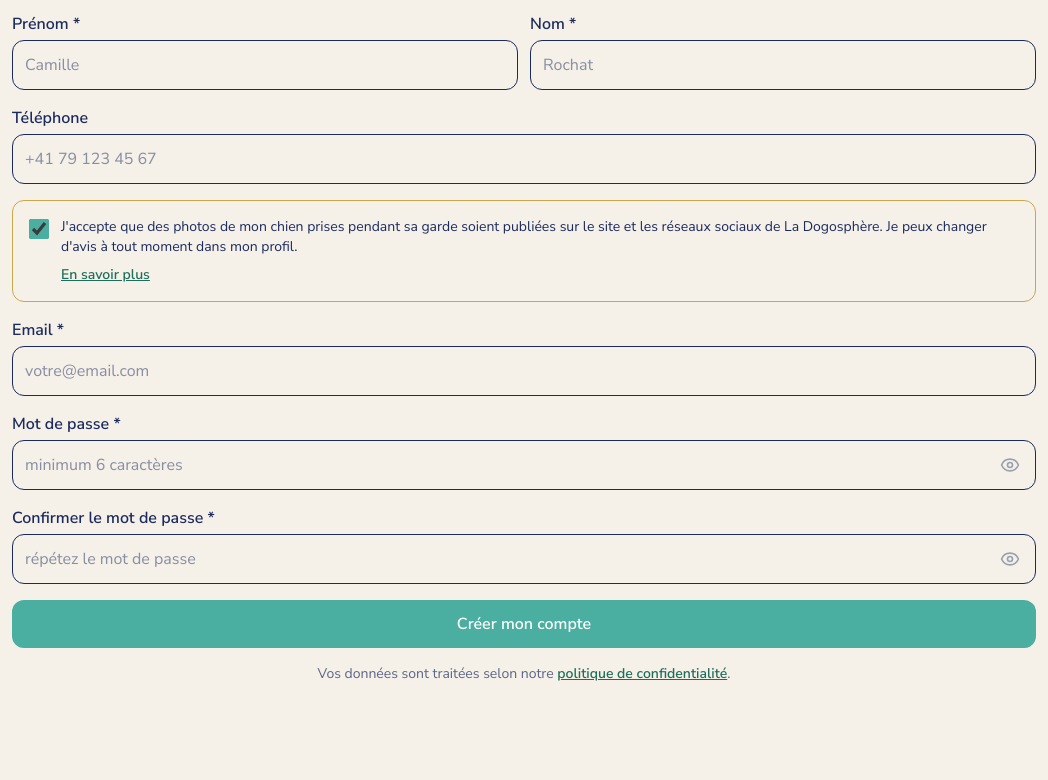
Test case: ce qui reste refusé, et qui ne trahit rien › les refus de SAISIE restent affichés
This screenshot has width=1048, height=780.
Type "Marie" into the field labelled "Prénom *" at (265,65), box [12,40,518,90]
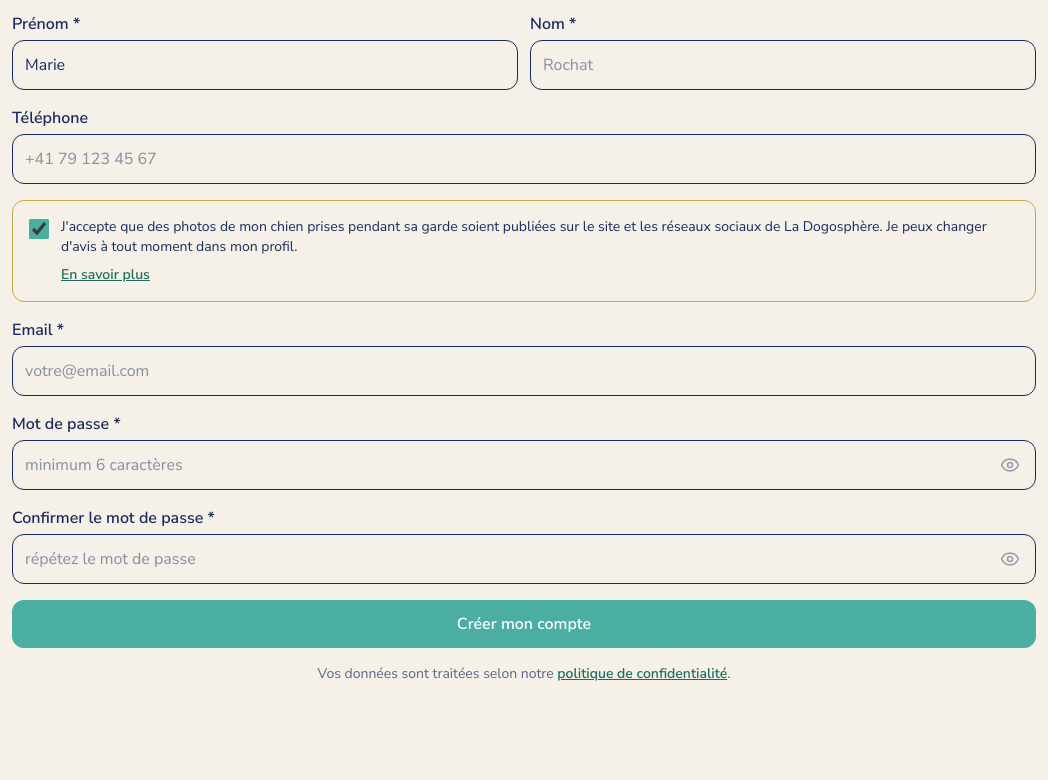
Type "Dupont" into the field labelled "Nom *" at (783,65), box [530,40,1036,90]
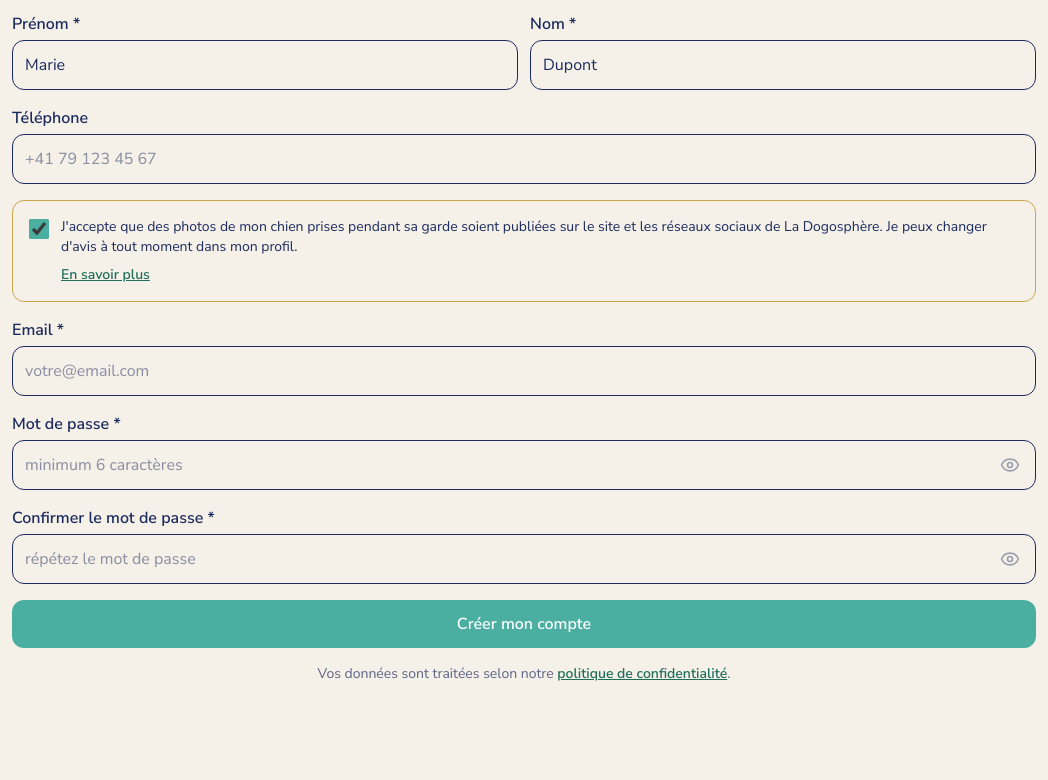
Type "x@example.ch" into the field labelled "Email *" at (524,371), box [12,346,1036,396]
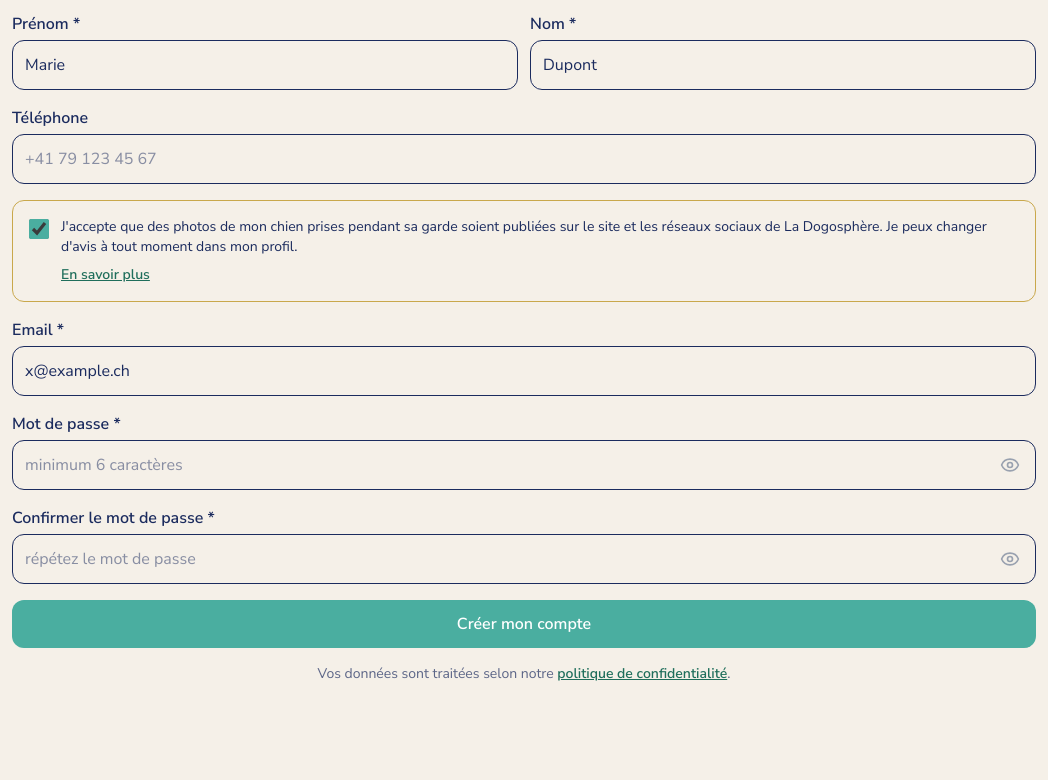
Type "abc" into the password field labelled "Mot de passe *" at (524,465), box [12,440,1036,490]
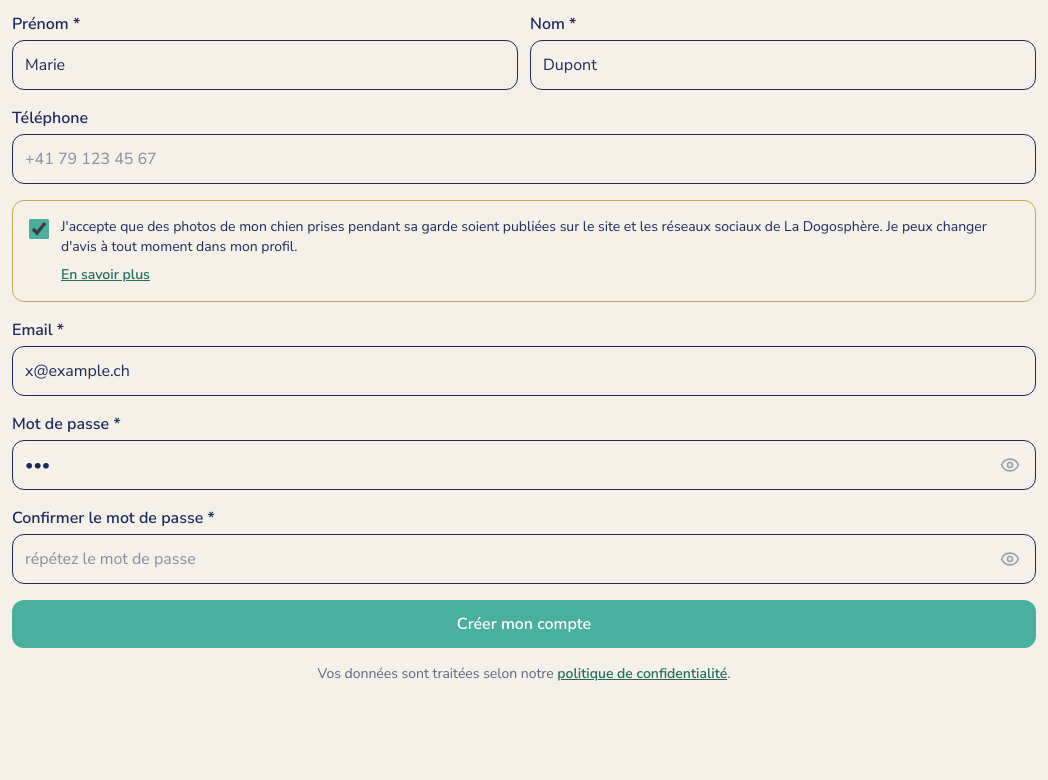
Type "abc" into the password field labelled "Confirmer le mot de passe *" at (524,559), box [12,534,1036,584]
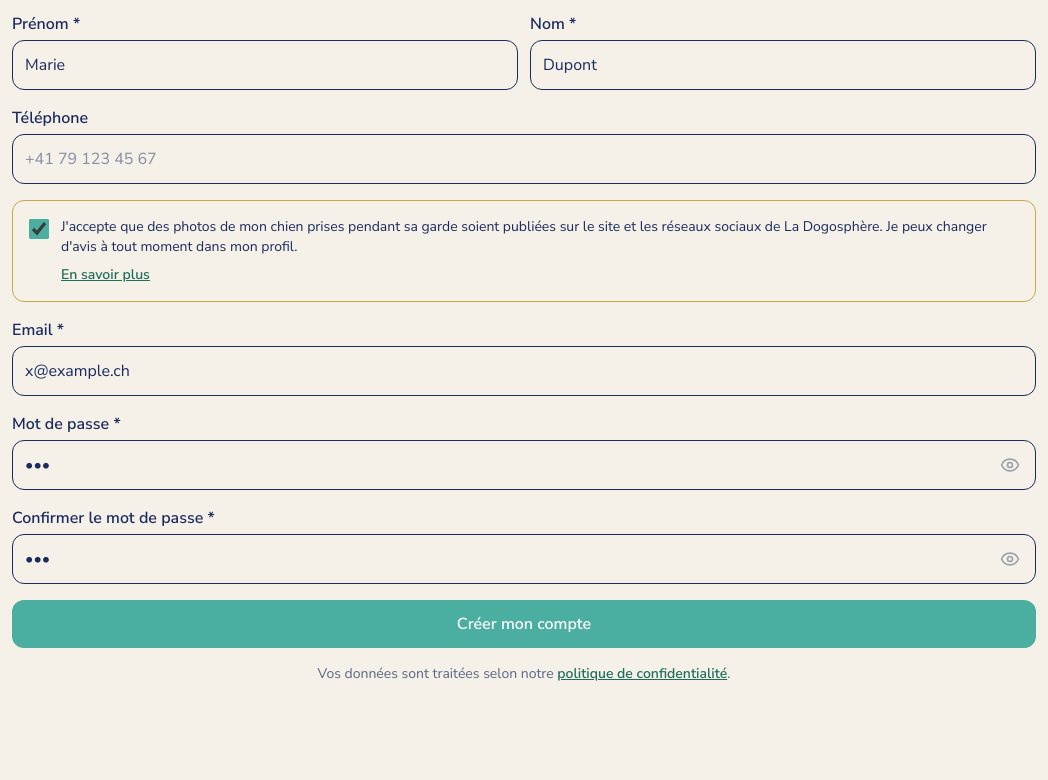
Click the button "Créer mon compte" at (524,624), box [12,600,1036,648]
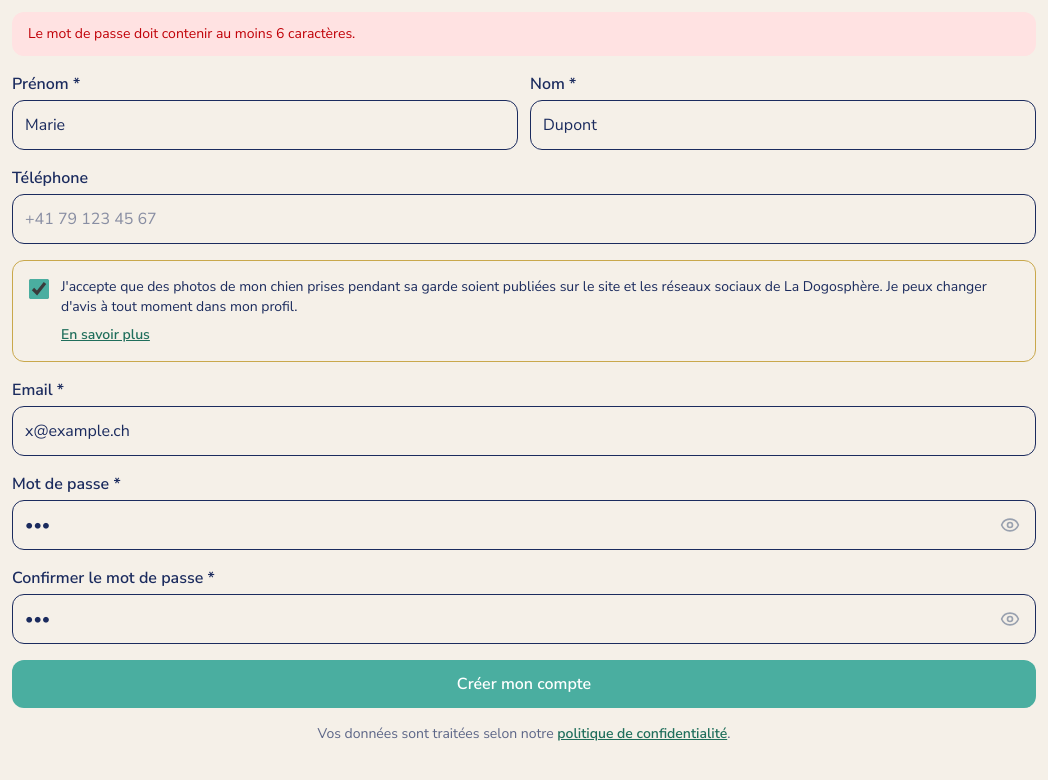
Expected: the text "au moins 6 caractères" is shown, [28,24,355,43]
